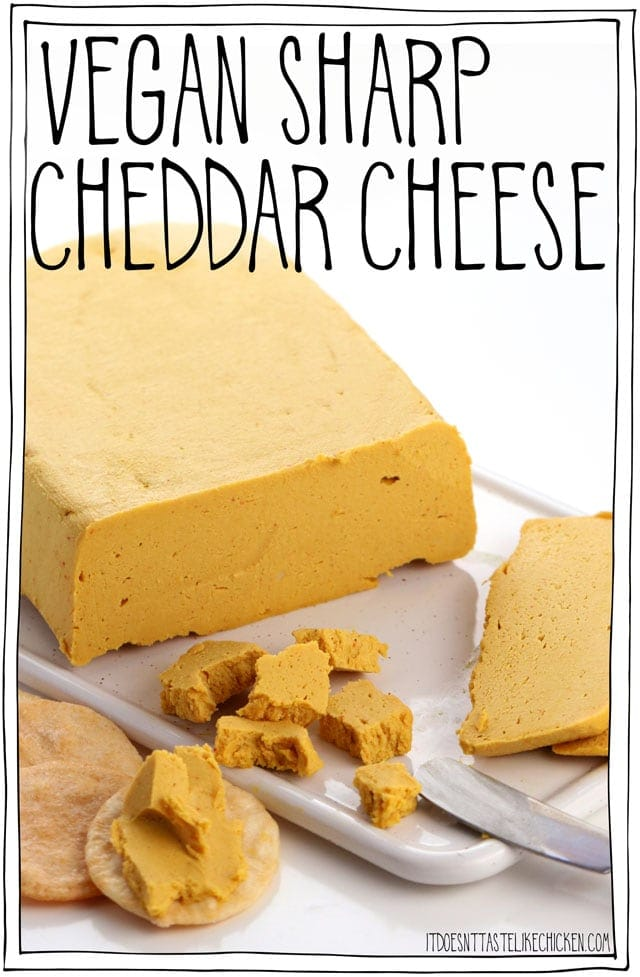cheese: (8, 266, 565, 598), (462, 475, 634, 770), (164, 627, 427, 804), (116, 727, 284, 910)
